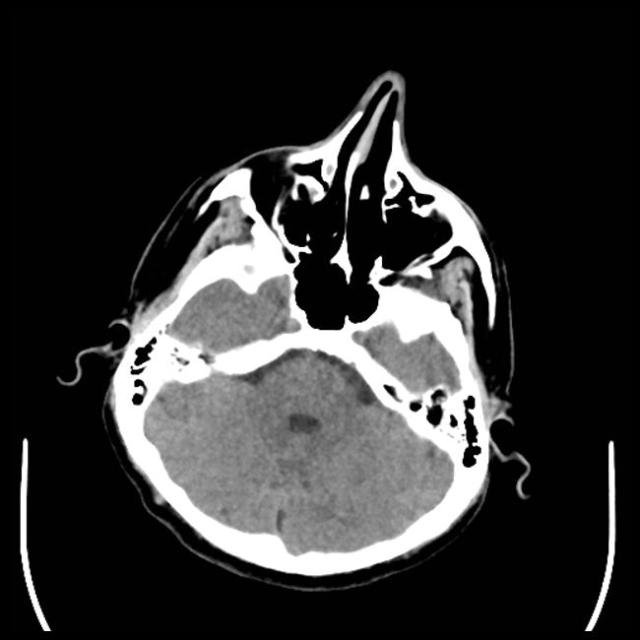lesion: (69, 68, 534, 591)
